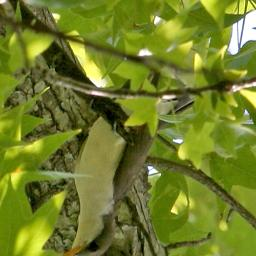Cuckoo: (54, 70, 196, 256)
